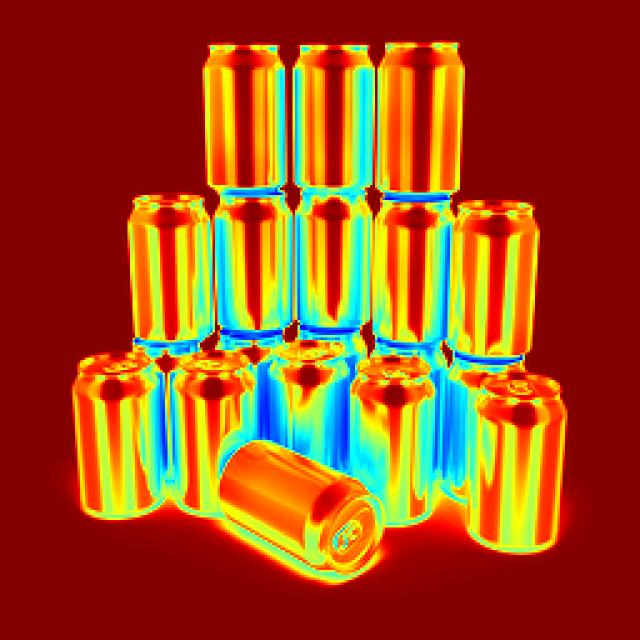Aluminium Food Cans: (459, 382, 583, 539), (228, 437, 364, 574), (343, 356, 430, 556), (68, 352, 158, 519), (202, 33, 288, 204), (289, 34, 381, 186), (453, 192, 533, 365), (125, 188, 218, 336), (375, 36, 460, 188), (216, 189, 293, 354), (371, 195, 450, 353), (301, 186, 384, 331), (187, 366, 260, 517), (264, 331, 344, 468)
